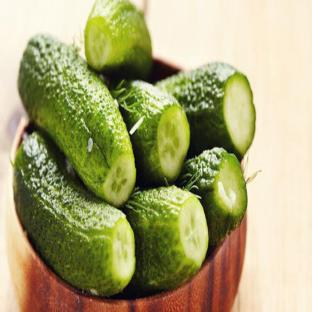Cucumber: (19, 36, 135, 206), (14, 133, 134, 295), (158, 63, 255, 158), (125, 187, 208, 292), (112, 81, 189, 185), (180, 148, 247, 246)
